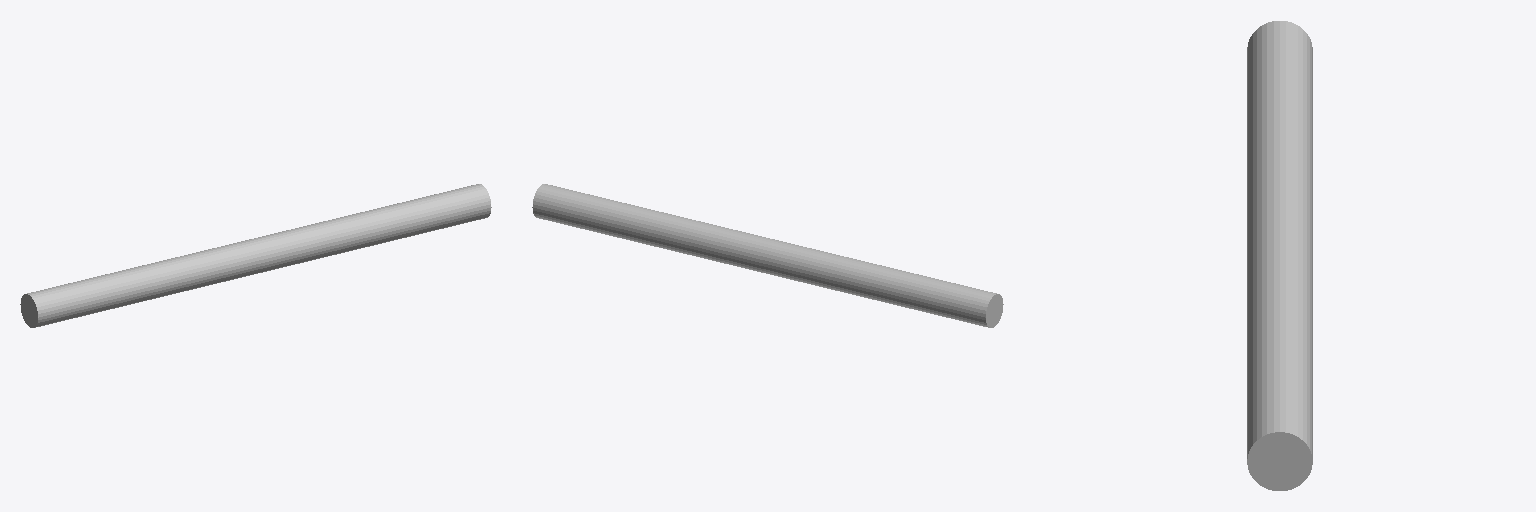
The robot description file, URDF, robot "rod":
<?xml version="1.0" encoding="utf-8"?>
<robot name="rod">
  <link name="rod_Link">
    <inertial>
      <origin xyz="0 0 0" rpy="0 0 0"/>
      <mass value="0.8"/>
      <inertia ixx="0.001" iyy="0.001" izz="0.0005" ixy="0" ixz="0" iyz="0"/>
    </inertial>
    <visual>
      <origin xyz="0 0 0" rpy="0 -1.57 0"/>
      <geometry><cylinder length="0.8" radius="0.027"/></geometry>
      <material name="gray"><color rgba="0.8 0.8 0.8 1"/></material>
    </visual>
    <collision>
      <origin xyz="0 0 0" rpy="0 -1.57 0"/>
      <geometry><cylinder length="0.8" radius="0.027"/></geometry>
    </collision>
  </link>
</robot>

--- Render facts (derived) ---
3 views of the same robot in one strip: view 1: azimuth 30°, elevation 25°; view 2: azimuth 150°, elevation 25°; view 3: azimuth 270°, elevation 25° (orthographic).
Robot: rod — 1 links, 0 joints (none); root link rod_Link; default pose: all joints at 0.
Visible links, largest first — view 1: rod_Link; view 2: rod_Link; view 3: rod_Link.
Link boxes in pixels (x1,y1,x2,y2): rod_Link: (20,184,491,327); rod_Link: (532,184,1003,327); rod_Link: (1247,21,1312,490).
Bounding box of the posed robot: 0.8 × 0.054 × 0.0546 m (x, y, z).
Geometry: primitives only (box / cylinder / sphere), no mesh files.
